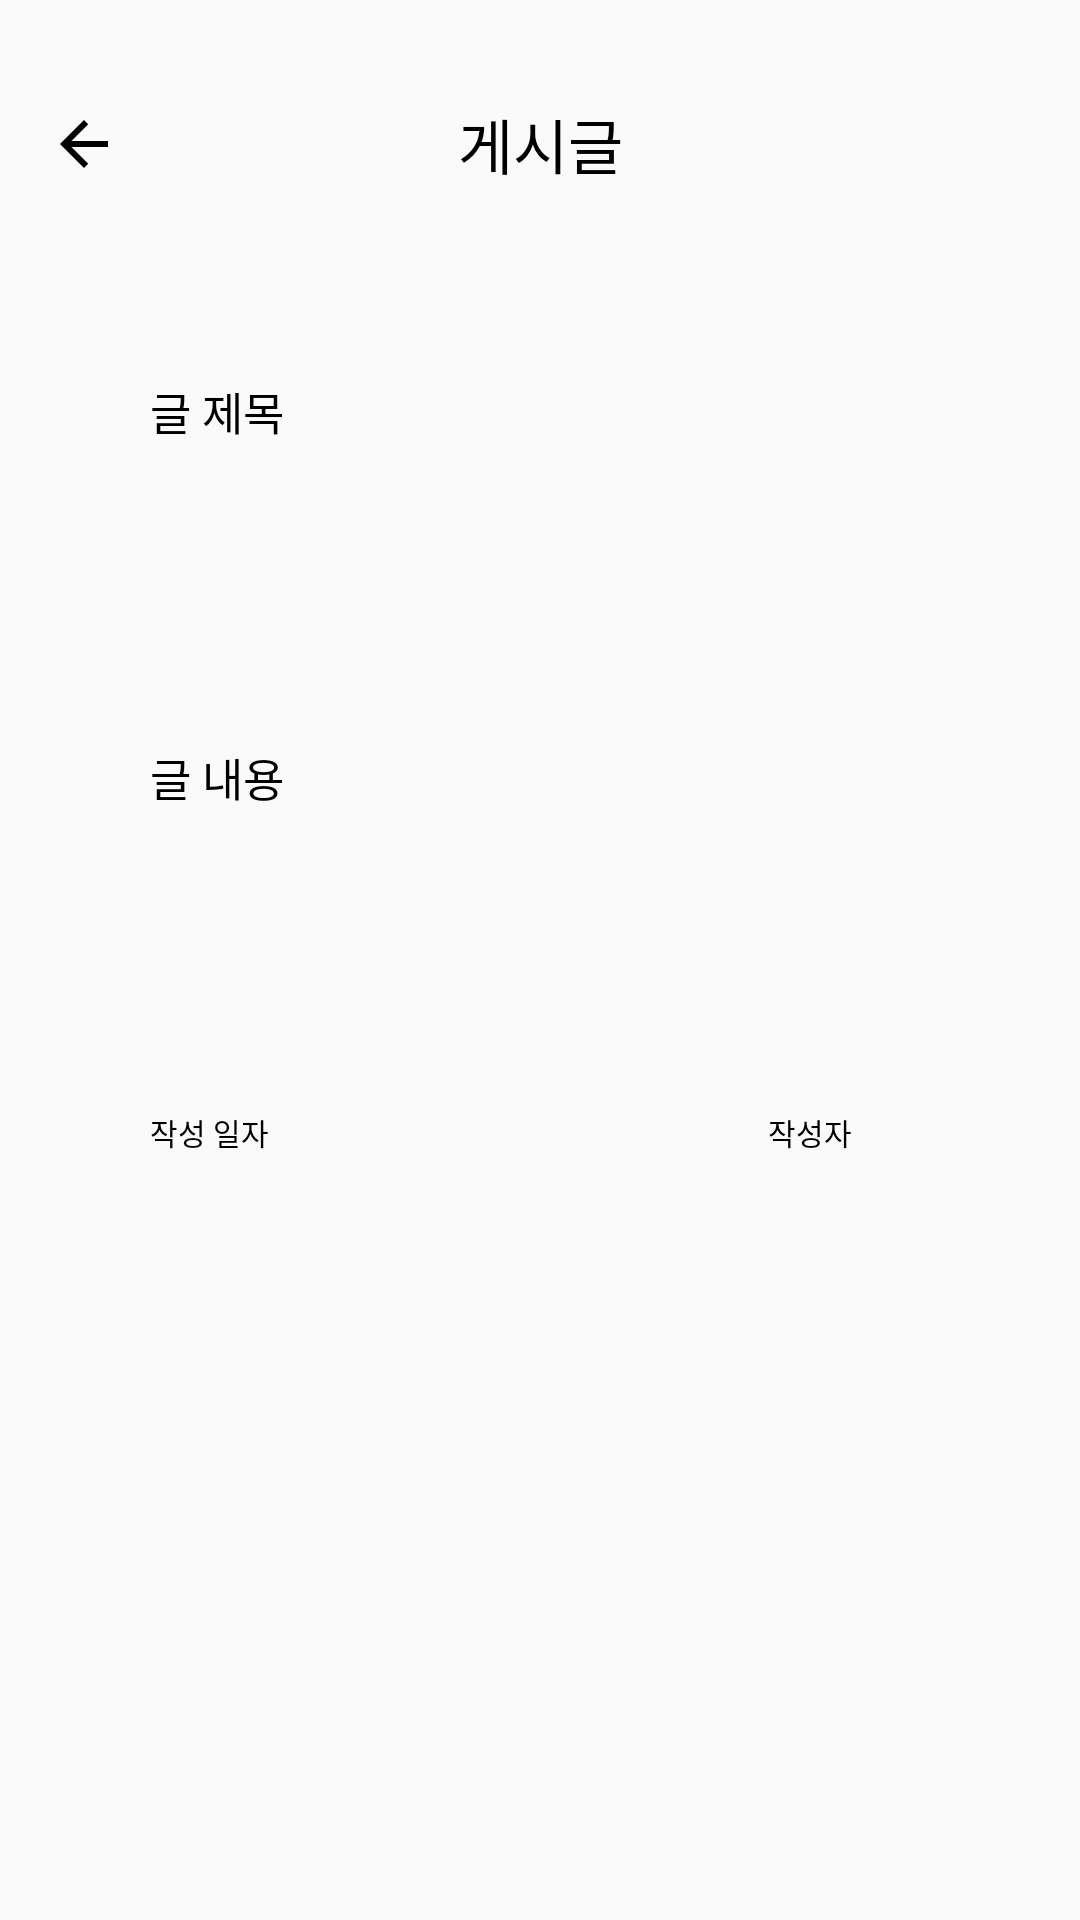

Icon bounding boxes for this 1080*1920 phone screenshot, format region(x1, y1, x2, y2):
back arrow: region(60, 120, 108, 168)
